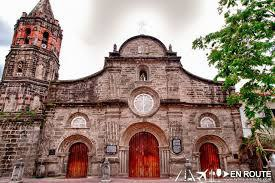barasoain_church_malolos_bulacan: (1, 1, 248, 179)
